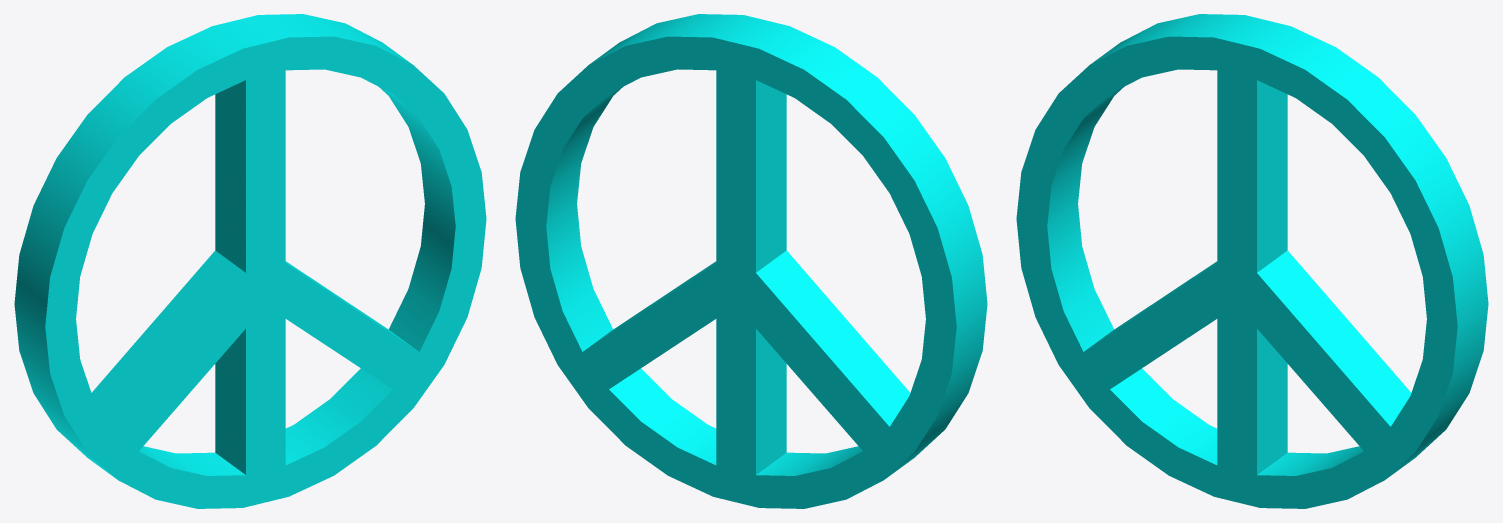
File: peacesign.fbx
3 views of the same model, side by side, from view 1: azimuth 30°, elevation 25°; view 2: azimuth 150°, elevation 25°; view 3: azimuth 330°, elevation 25° (orthographic).
Visible parts, largest first — view 1: peacesign; view 2: peacesign; view 3: peacesign.
Boxes of the visible parts, <box> form: peacesign: <box>14,14,486,508</box>; peacesign: <box>515,14,987,508</box>; peacesign: <box>1016,14,1488,508</box>.
Bounding box in the file's own units: 18.8 × 18.69 × 2.27.
